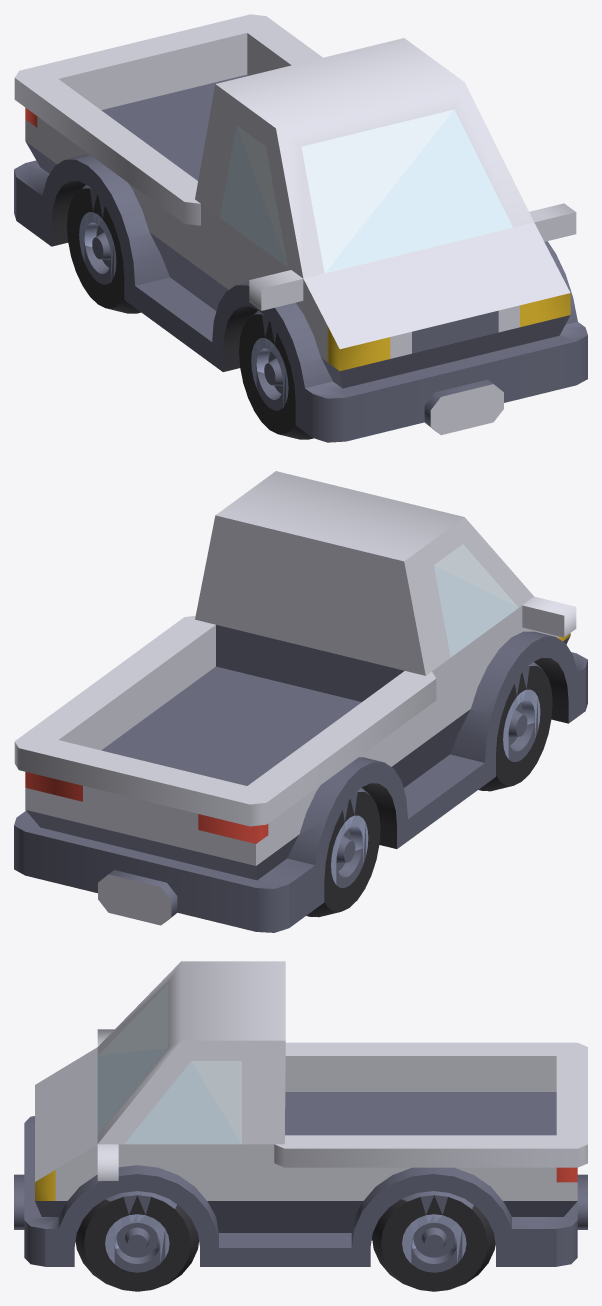
Rendered from kenney-flatbed.glb.
3 renders of one model, top to bottom at view 1: azimuth 30°, elevation 25°; view 2: azimuth 150°, elevation 25°; view 3: azimuth 270°, elevation 25°, orthographic. The views are drawn at different scales.
Visible parts, largest first — view 1: body, wheel-wheel-back-right, wheel-wheel-front-right; view 2: body, wheel-wheel-front-right, wheel-wheel-back-right; view 3: body, wheel-wheel-front-left, wheel-wheel-back-left.
Boxes of the visible parts, x1,y1,x2,y2 form: body: (14, 14, 587, 442); wheel-wheel-back-right: (67, 184, 140, 313); wheel-wheel-front-right: (239, 310, 313, 439); body: (14, 471, 587, 932); wheel-wheel-front-right: (478, 662, 552, 791); wheel-wheel-back-right: (306, 787, 380, 917); body: (14, 961, 587, 1266); wheel-wheel-front-left: (75, 1191, 198, 1291); wheel-wheel-back-left: (372, 1191, 495, 1291).
Bounding box in the file's own units: 1.5 × 1.3 × 2.75.
